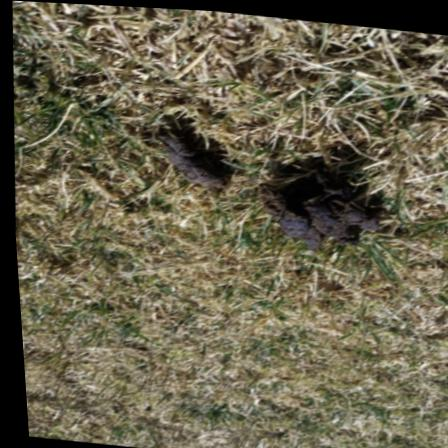dog-poop: (248, 152, 391, 260), (155, 123, 230, 187)
